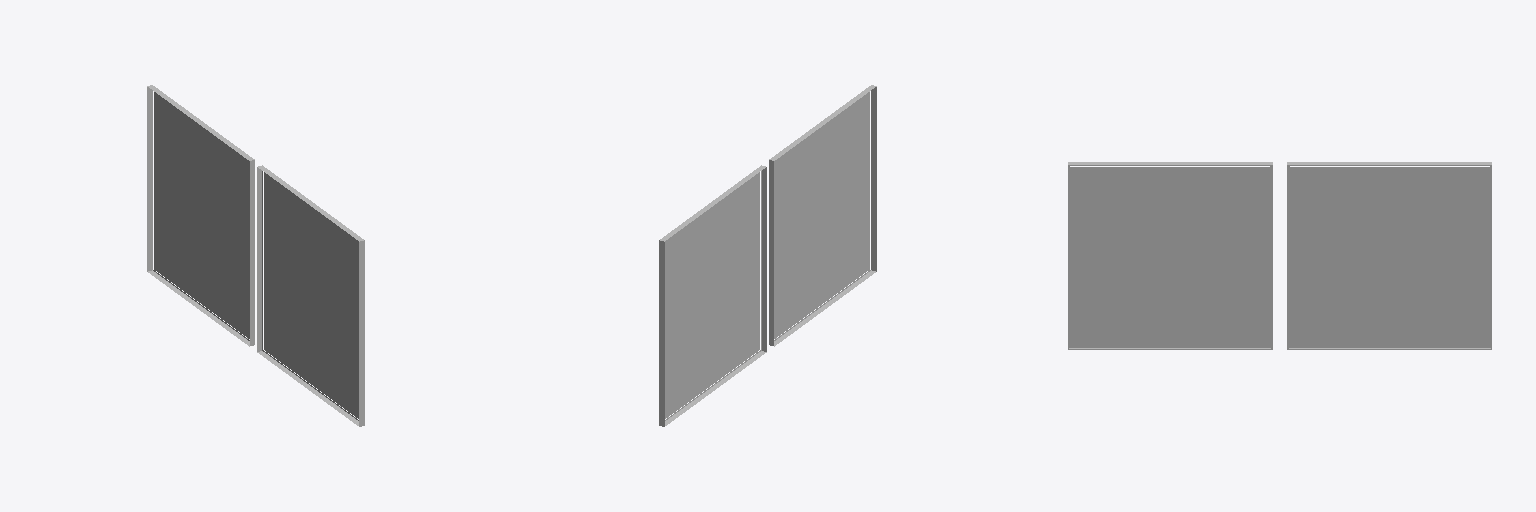
The model's file is Paintings.obj.
3 renders of one model, left to right at view 1: azimuth 30°, elevation 25°; view 2: azimuth 150°, elevation 25°; view 3: azimuth 270°, elevation 25°, orthographic.
Visible parts, largest first — view 1: Paintings; view 2: Paintings; view 3: Paintings.
Part boxes in pixels (x1,y1,x2,y2): Paintings: (147,85,364,426); Paintings: (659,85,876,426); Paintings: (1068,162,1491,349).
Bounding box in the file's own units: 0.0215 × 0.6884 × 1.43.